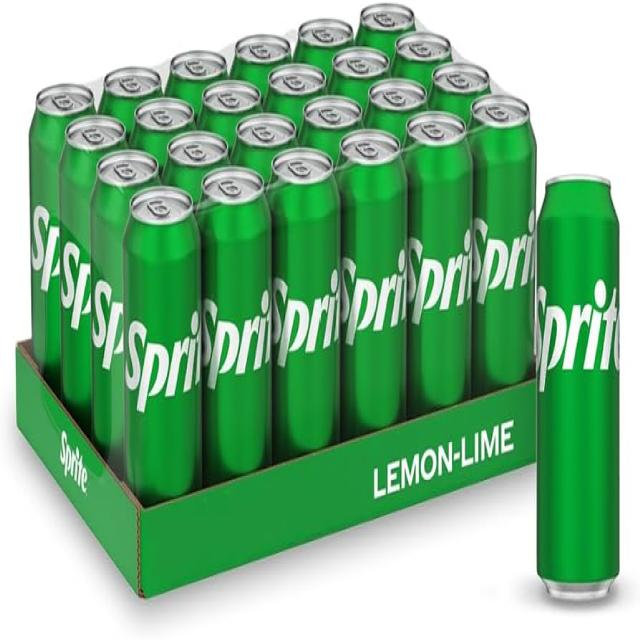sprite: (531, 190, 622, 609), (27, 70, 123, 413), (128, 195, 218, 521), (61, 148, 146, 482), (92, 153, 168, 509), (396, 127, 476, 445), (202, 150, 280, 476), (336, 158, 420, 449), (272, 180, 348, 493), (470, 97, 540, 402)
